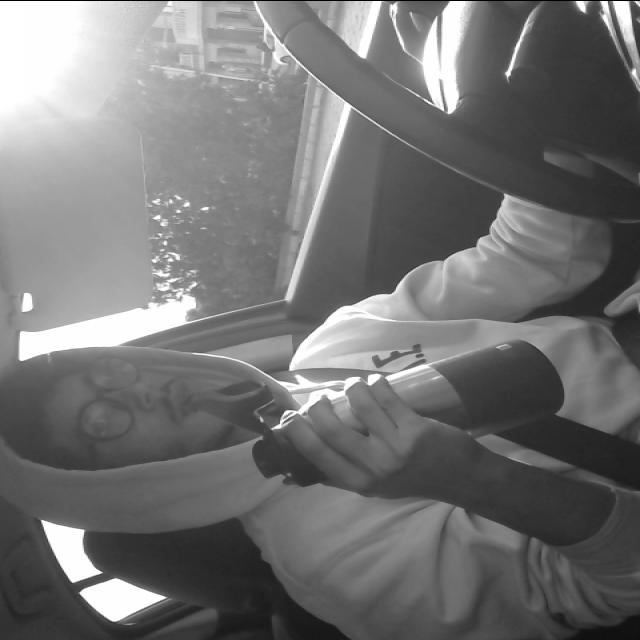drinking: (181, 339, 565, 490)
